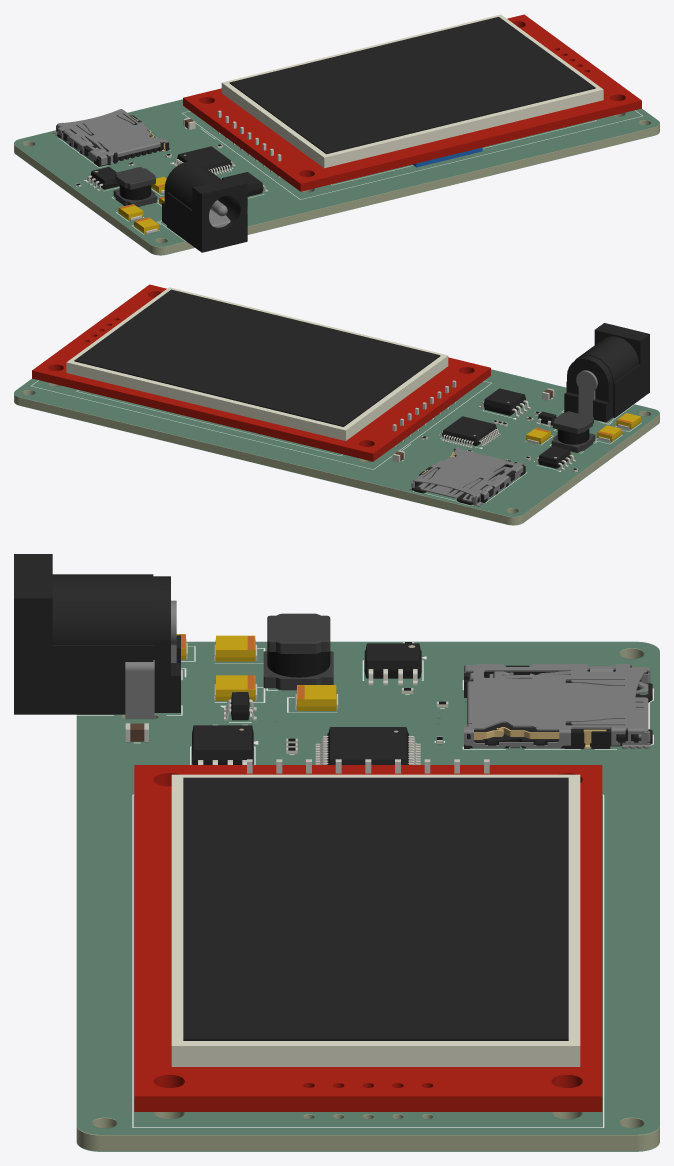
Rendered from cad-Gyroscope 1.gltf.
3 renders of one model, top to bottom at view 1: azimuth 30°, elevation 25°; view 2: azimuth 150°, elevation 25°; view 3: azimuth 270°, elevation 25°, orthographic. The views are drawn at different scales.
Visible parts, largest first — view 1: CR2013-MI2120, Gyroscope-unsaved-export-9FCW3V_PCB, Gyroscope-unsaved-export-9FCW3V_soldermask, BarrelJack_GCT_DCJ200-10-A_Horizontal, microSD_HC_Hirose_DM3AT-SF-PEJM5, Body001, Gyroscope-unsaved-export-9FCW3V_silkscreen, LQFP-48_7x7mm_P0.5mm, CP_EIA-3528-12_Kemet-T001, SOIC-8_3.9x4.9mm_P1.27mm, Gyroscope-unsaved-export-9FCW3V_soldermask001, SOIC-8_5.3x5.3mm_P1.27mm (+1 smaller); view 2: CR2013-MI2120, Gyroscope-unsaved-export-9FCW3V_PCB, Gyroscope-unsaved-export-9FCW3V_soldermask, BarrelJack_GCT_DCJ200-10-A_Horizontal, microSD_HC_Hirose_DM3AT-SF-PEJM5, LQFP-48_7x7mm_P0.5mm, Gyroscope-unsaved-export-9FCW3V_silkscreen, Body001, SOIC-8_5.3x5.3mm_P1.27mm, CP_EIA-3528-12_Kemet-T001, SOIC-8_3.9x4.9mm_P1.27mm, Gyroscope-unsaved-export-9FCW3V_soldermask001 (+1 smaller); view 3: CR2013-MI2120, Gyroscope-unsaved-export-9FCW3V_PCB, Gyroscope-unsaved-export-9FCW3V_soldermask, BarrelJack_GCT_DCJ200-10-A_Horizontal, microSD_HC_Hirose_DM3AT-SF-PEJM5, Body001, LQFP-48_7x7mm_P0.5mm, CP_EIA-3528-12_Kemet-T001, Gyroscope-unsaved-export-9FCW3V_silkscreen, SOIC-8_5.3x5.3mm_P1.27mm, SOIC-8_3.9x4.9mm_P1.27mm, Coil.
Part boxes in pixels (bbox=[...]): CR2013-MI2120: bbox=[183, 14, 641, 191]; Gyroscope-unsaved-export-9FCW3V_PCB: bbox=[14, 100, 659, 255]; Gyroscope-unsaved-export-9FCW3V_soldermask: bbox=[14, 99, 659, 246]; BarrelJack_GCT_DCJ200-10-A_Horizontal: bbox=[162, 161, 247, 252]; microSD_HC_Hirose_DM3AT-SF-PEJM5: bbox=[53, 109, 169, 166]; Body001: bbox=[113, 167, 157, 206]; Gyroscope-unsaved-export-9FCW3V_silkscreen: bbox=[58, 110, 642, 241]; LQFP-48_7x7mm_P0.5mm: bbox=[173, 146, 235, 175]; CP_EIA-3528-12_Kemet-T001: bbox=[118, 176, 166, 233]; SOIC-8_3.9x4.9mm_P1.27mm: bbox=[85, 167, 119, 190]; Gyroscope-unsaved-export-9FCW3V_soldermask001: bbox=[14, 132, 659, 255]; SOIC-8_5.3x5.3mm_P1.27mm: bbox=[222, 172, 268, 196]; CR2013-MI2120: bbox=[32, 284, 490, 461]; Gyroscope-unsaved-export-9FCW3V_PCB: bbox=[14, 370, 659, 525]; Gyroscope-unsaved-export-9FCW3V_soldermask: bbox=[14, 369, 659, 516]; BarrelJack_GCT_DCJ200-10-A_Horizontal: bbox=[564, 323, 649, 422]; microSD_HC_Hirose_DM3AT-SF-PEJM5: bbox=[409, 447, 525, 506]; LQFP-48_7x7mm_P0.5mm: bbox=[438, 416, 500, 448]; Gyroscope-unsaved-export-9FCW3V_silkscreen: bbox=[31, 380, 641, 505]; Body001: bbox=[551, 411, 595, 452]; SOIC-8_5.3x5.3mm_P1.27mm: bbox=[479, 388, 530, 417]; CP_EIA-3528-12_Kemet-T001: bbox=[525, 413, 641, 444]; SOIC-8_3.9x4.9mm_P1.27mm: bbox=[533, 446, 575, 470]; Gyroscope-unsaved-export-9FCW3V_soldermask001: bbox=[14, 402, 659, 525]; CR2013-MI2120: bbox=[134, 759, 602, 1111]; Gyroscope-unsaved-export-9FCW3V_PCB: bbox=[76, 643, 659, 1151]; Gyroscope-unsaved-export-9FCW3V_soldermask: bbox=[76, 641, 659, 1134]; BarrelJack_GCT_DCJ200-10-A_Horizontal: bbox=[14, 554, 180, 718]; microSD_HC_Hirose_DM3AT-SF-PEJM5: bbox=[464, 664, 652, 748]; Body001: bbox=[263, 613, 333, 690]; LQFP-48_7x7mm_P0.5mm: bbox=[315, 727, 420, 764]; CP_EIA-3528-12_Kemet-T001: bbox=[176, 634, 338, 710]; Gyroscope-unsaved-export-9FCW3V_silkscreen: bbox=[76, 646, 653, 1127]; SOIC-8_5.3x5.3mm_P1.27mm: bbox=[192, 725, 253, 764]; SOIC-8_3.9x4.9mm_P1.27mm: bbox=[364, 643, 421, 685]; Coil: bbox=[267, 651, 330, 677].
Bounding box in the file's own units: 0.1 × 0.015 × 0.0554.
